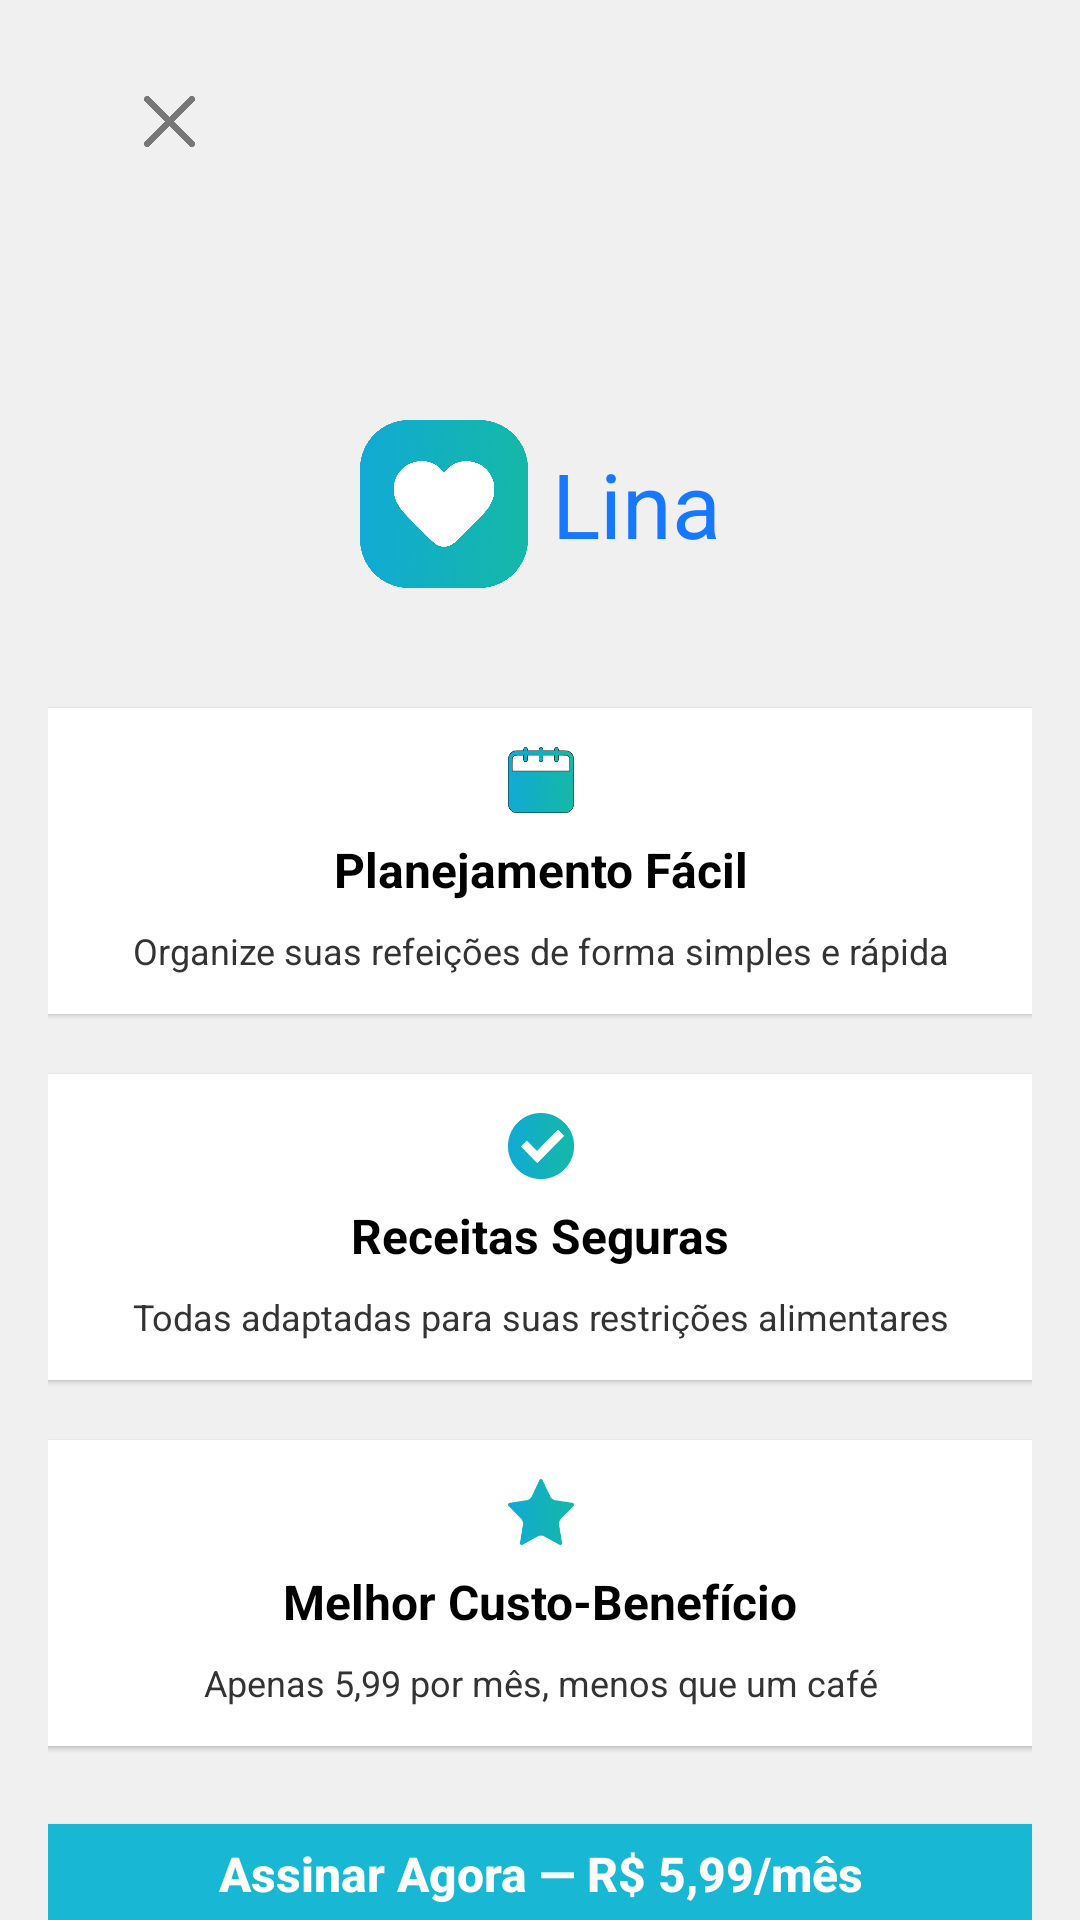

Named icons in this screenshot (1080×1920) and their bounding boxes, (x1, y1, x2, y2):
pagamento calendario: (508, 747, 574, 813)
pagamento checkk: (508, 1113, 574, 1179)
pagamento close: (144, 96, 195, 147)
pagamento estrela mc: (508, 1479, 574, 1545)
